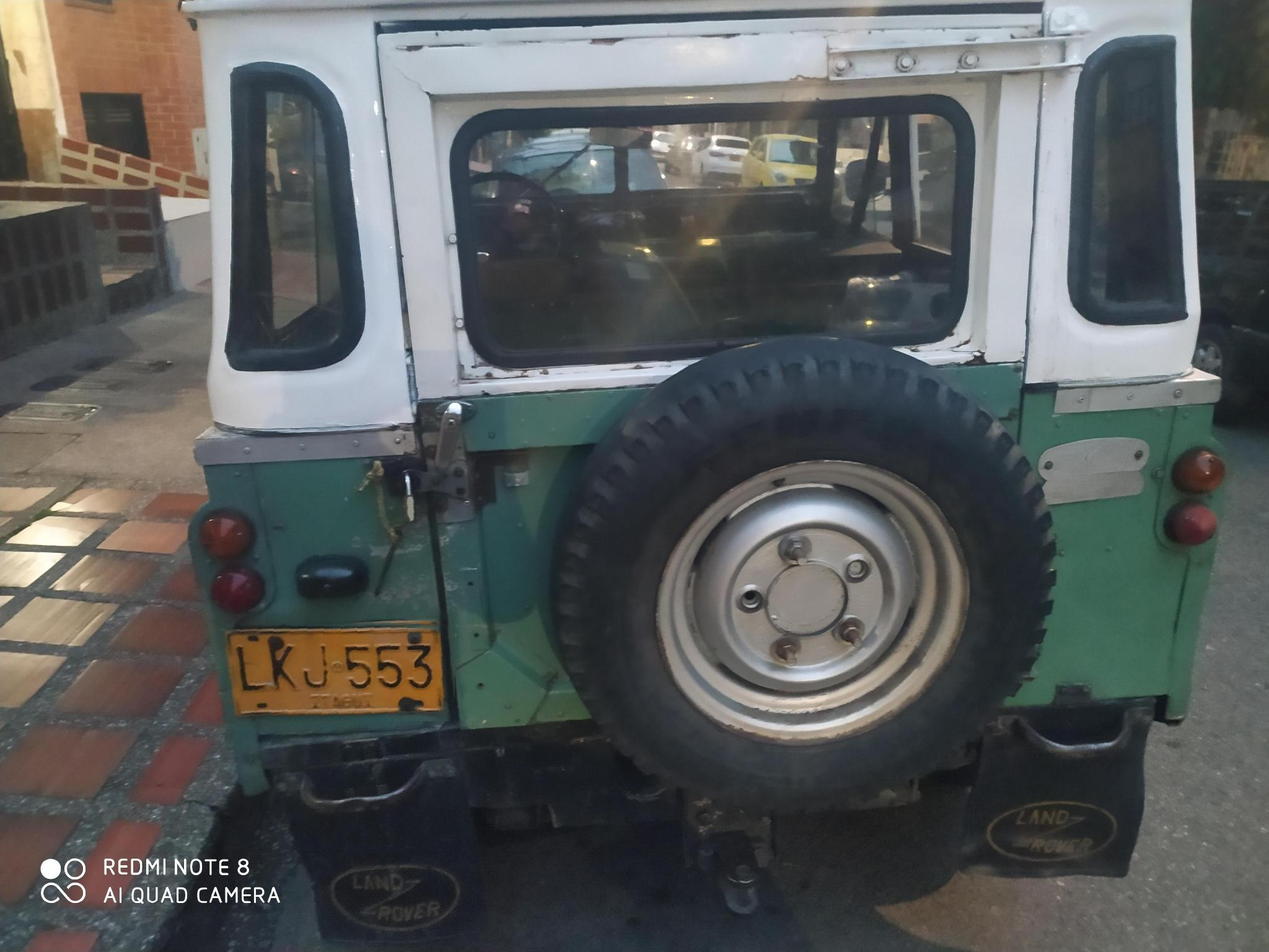placa: (215, 616, 457, 721)
